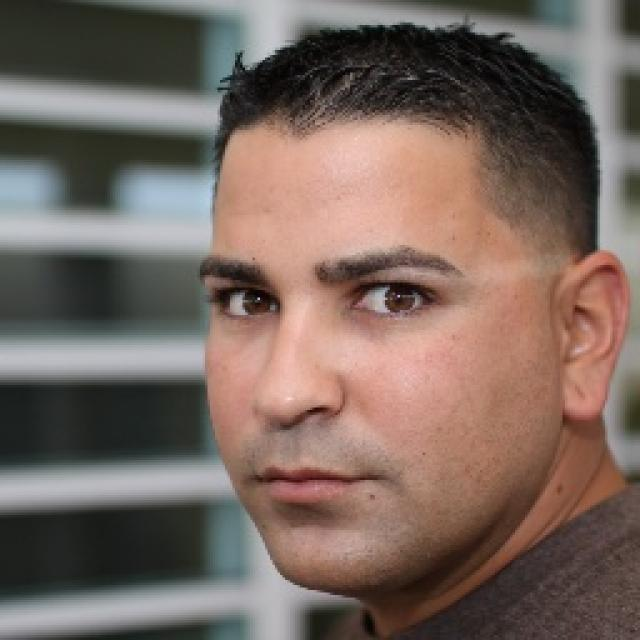earlobe: (550, 250, 630, 424)
